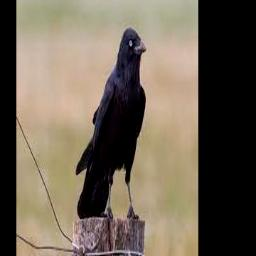Crow: (76, 27, 147, 218)
